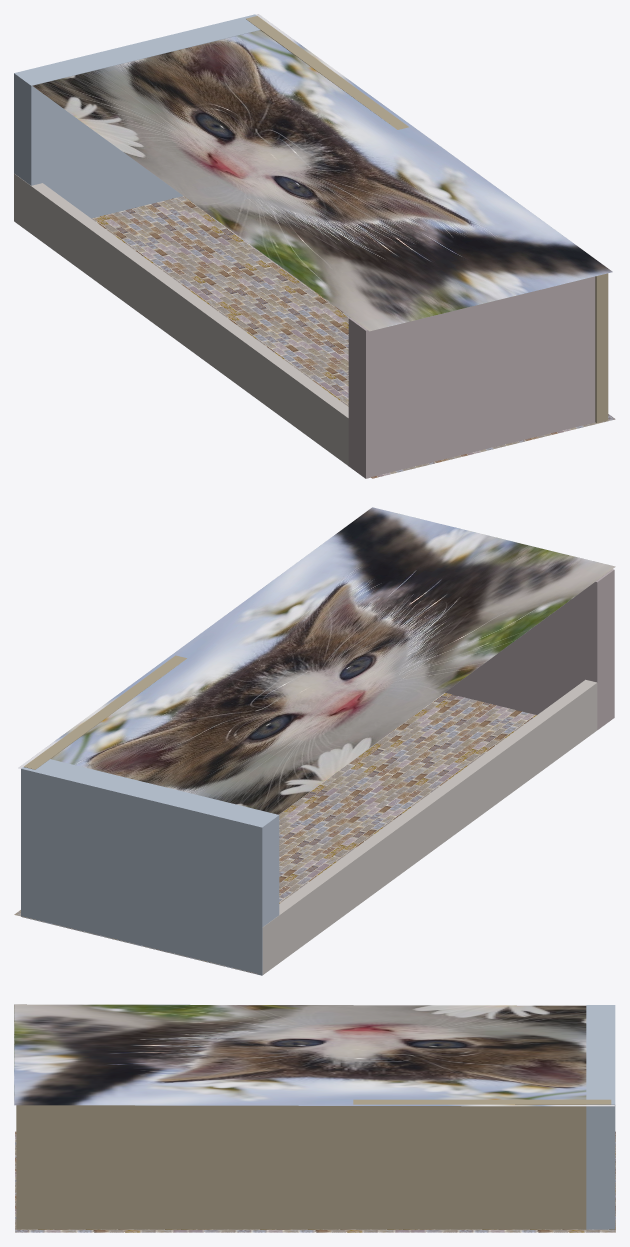
The model's file is largeroom.obj.
3 renders of one model, top to bottom at view 1: azimuth 30°, elevation 25°; view 2: azimuth 150°, elevation 25°; view 3: azimuth 270°, elevation 25°, orthographic. The views are drawn at different scales.
Visible parts, largest first — view 1: Plane.001, Cube.002, Plane, Cube, Cube.003, Cube.001; view 2: Plane.001, Cube.003, Cube, Plane, Cube.002, Cube.001; view 3: Cube.001, Plane.001, Cube.003, Plane.
Boxes of the visible parts, <box> form: Plane.001: <box>32,14,612,331</box>; Cube.002: <box>348,276,595,478</box>; Plane: <box>91,196,615,478</box>; Cube: <box>14,173,348,465</box>; Cube.003: <box>14,14,259,218</box>; Cube.001: <box>246,16,608,423</box>; Plane.001: <box>18,507,615,814</box>; Cube.003: <box>21,759,279,975</box>; Cube: <box>262,679,597,974</box>; Plane: <box>14,693,536,973</box>; Cube.002: <box>445,569,614,729</box>; Cube.001: <box>24,655,186,769</box>; Cube.001: <box>16,1099,611,1229</box>; Plane.001: <box>14,1004,614,1106</box>; Cube.003: <box>586,1005,615,1229</box>; Plane: <box>15,1131,615,1232</box>.
Size of the model in its own units: 16.45 by 9.46 by 40.77.
6 materials, 6 textured.
